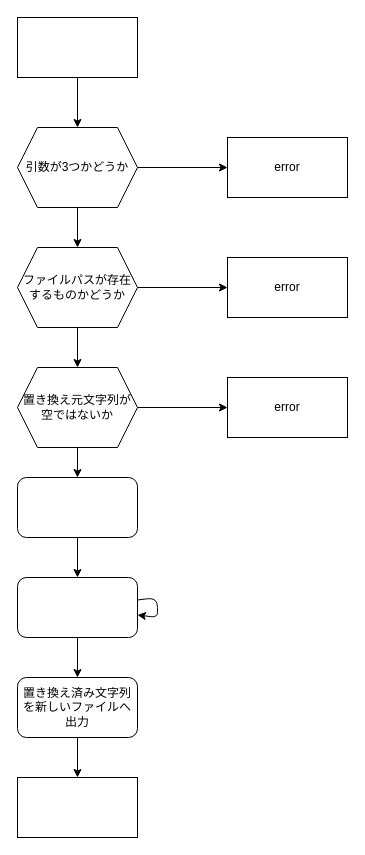
Some shapes in this 365 by 855 pixel diagram are drawn without their labels. The centre of each missing label's shape, as x and y in pixels:
"ファイルからファイル内容の取得" belongs at point (77, 507).
"ファイルから取得した文字列を置き換え" belongs at point (77, 607).
"終了" belongs at point (77, 807).
"開始" belongs at point (77, 47).
